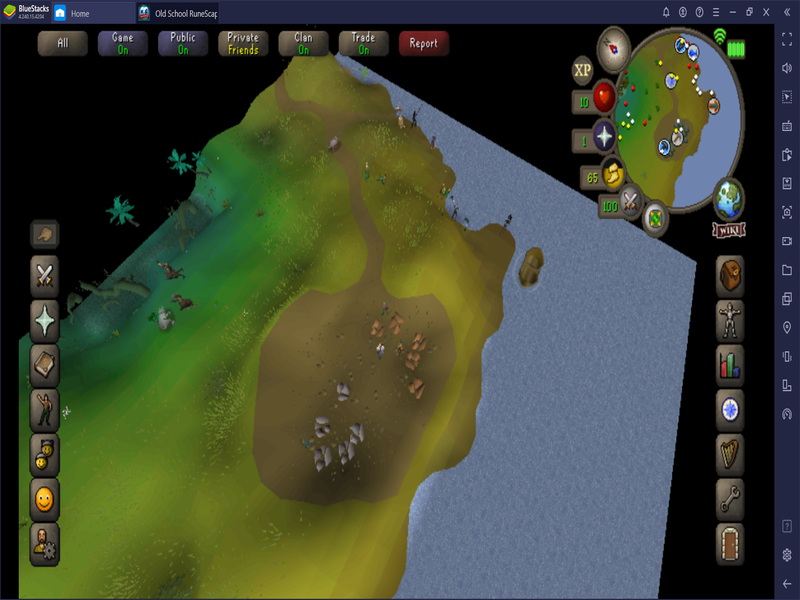copper_rock_1: (369, 319, 386, 339)
copper_rock_2: (388, 311, 404, 335)
